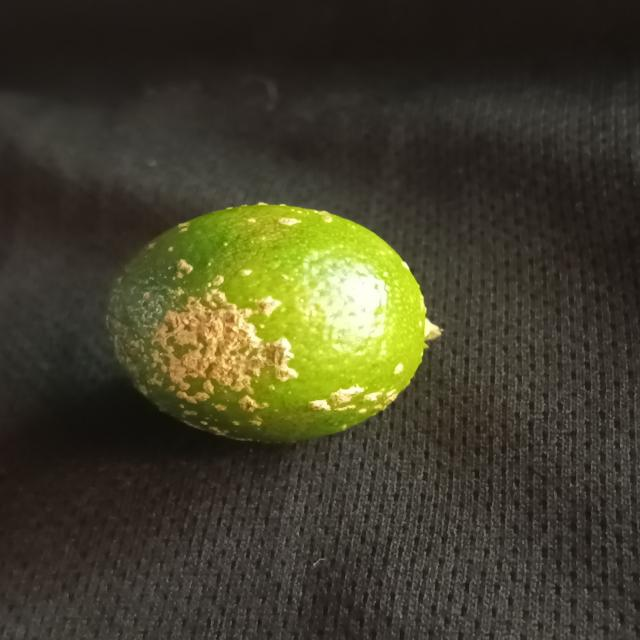scab: (102, 207, 438, 452)
